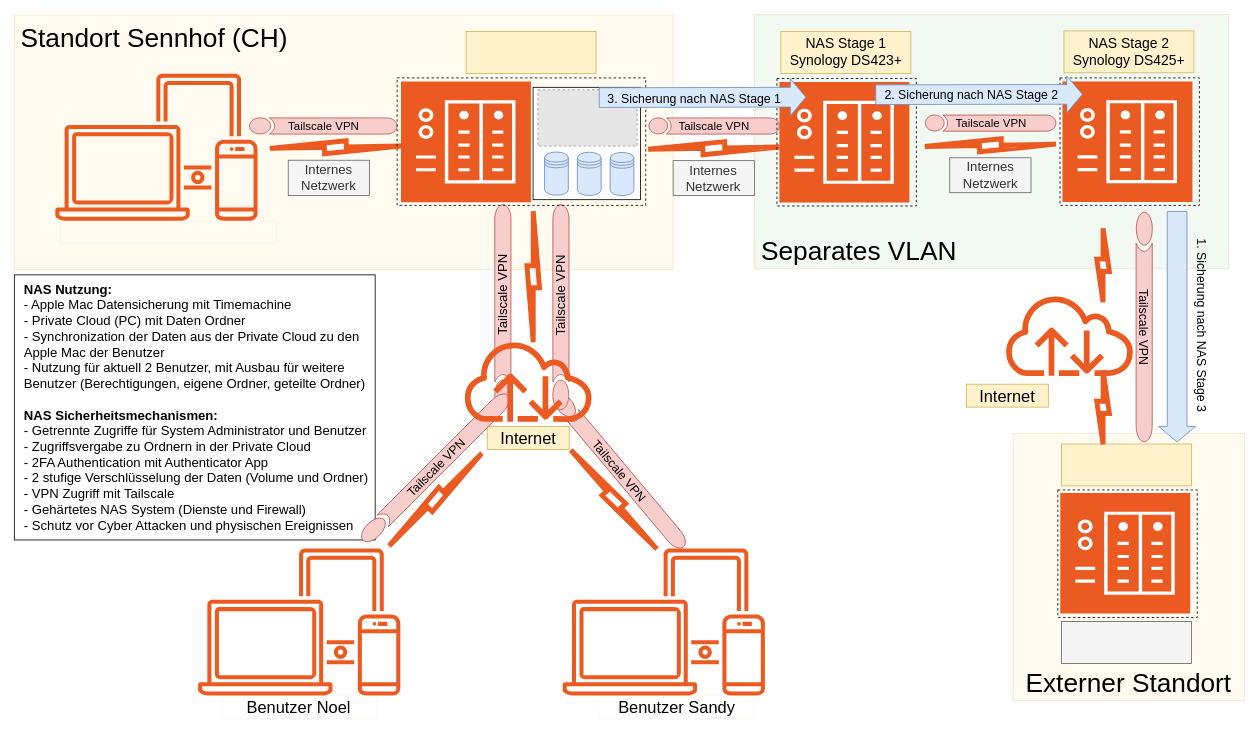
This 1259x733 diagram has some shape labels left out. Grey dashed boxes stand in for pictures. The centre of each missing label's shape, as x and y in pixels:
"Benutzer Chiocchetti Familie" belongs at [168,232].
"NAS Stage 3 Synology DS225+" belongs at [1126,464].
"NAS Stage Main Synology DS925+" belongs at [530,52].
"Sicherung von NAS Stage 2" belongs at [1126,642].
